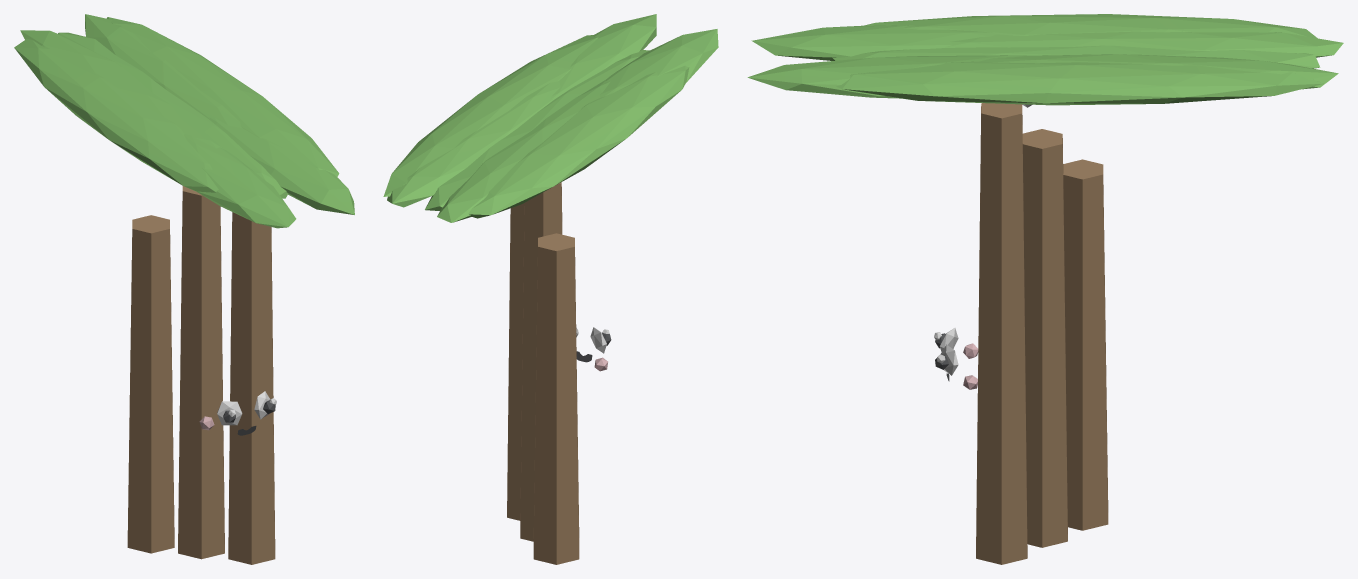
File: ptychosperma-propinquum.glb
3 views of the same model, side by side, from view 1: azimuth 30°, elevation 25°; view 2: azimuth 150°, elevation 25°; view 3: azimuth 270°, elevation 25° (orthographic). The views are drawn at different scales.
Parts seen in each view (by area): view 1: trunk1, trunk0, trunk2, frond3, frond0, frond1, frond2, frond6, frond4, frond5; view 2: trunk0, frond3, frond0, trunk1, trunk2, frond6, frond4, frond1, frond2, frond5; view 3: trunk2, trunk1, frond0, trunk0, frond3, frond4, frond2, frond1, frond5, frond6.
Boxes of the visible parts, x1,y1,x2,y2 form: trunk1: (178,186,224,559); trunk0: (127,215,174,553); trunk2: (228,212,275,564); frond3: (14,38,218,192); frond0: (106,17,339,176); frond1: (208,117,354,214); frond2: (184,134,296,228); frond6: (85,14,241,127); frond4: (20,30,225,149); frond5: (58,32,287,198); trunk0: (533,233,579,564); frond3: (468,65,689,218); frond0: (383,35,598,196); trunk1: (520,182,562,541); trunk2: (507,203,524,520); frond6: (387,80,560,207); frond4: (437,80,610,222); frond1: (551,14,656,99); frond2: (600,29,718,97); frond5: (425,50,649,210); trunk2: (976,103,1027,564); trunk1: (1022,129,1067,547); frond0: (836,61,1323,105); trunk0: (1063,159,1108,530); frond3: (864,14,1317,38); frond4: (945,31,1343,57); frond2: (751,25,996,60); frond1: (747,55,1023,98); frond5: (831,45,1320,68); frond6: (979,54,1338,89).
Bounding box in the file's own units: 0.2331 × 0.629 × 0.7033.
